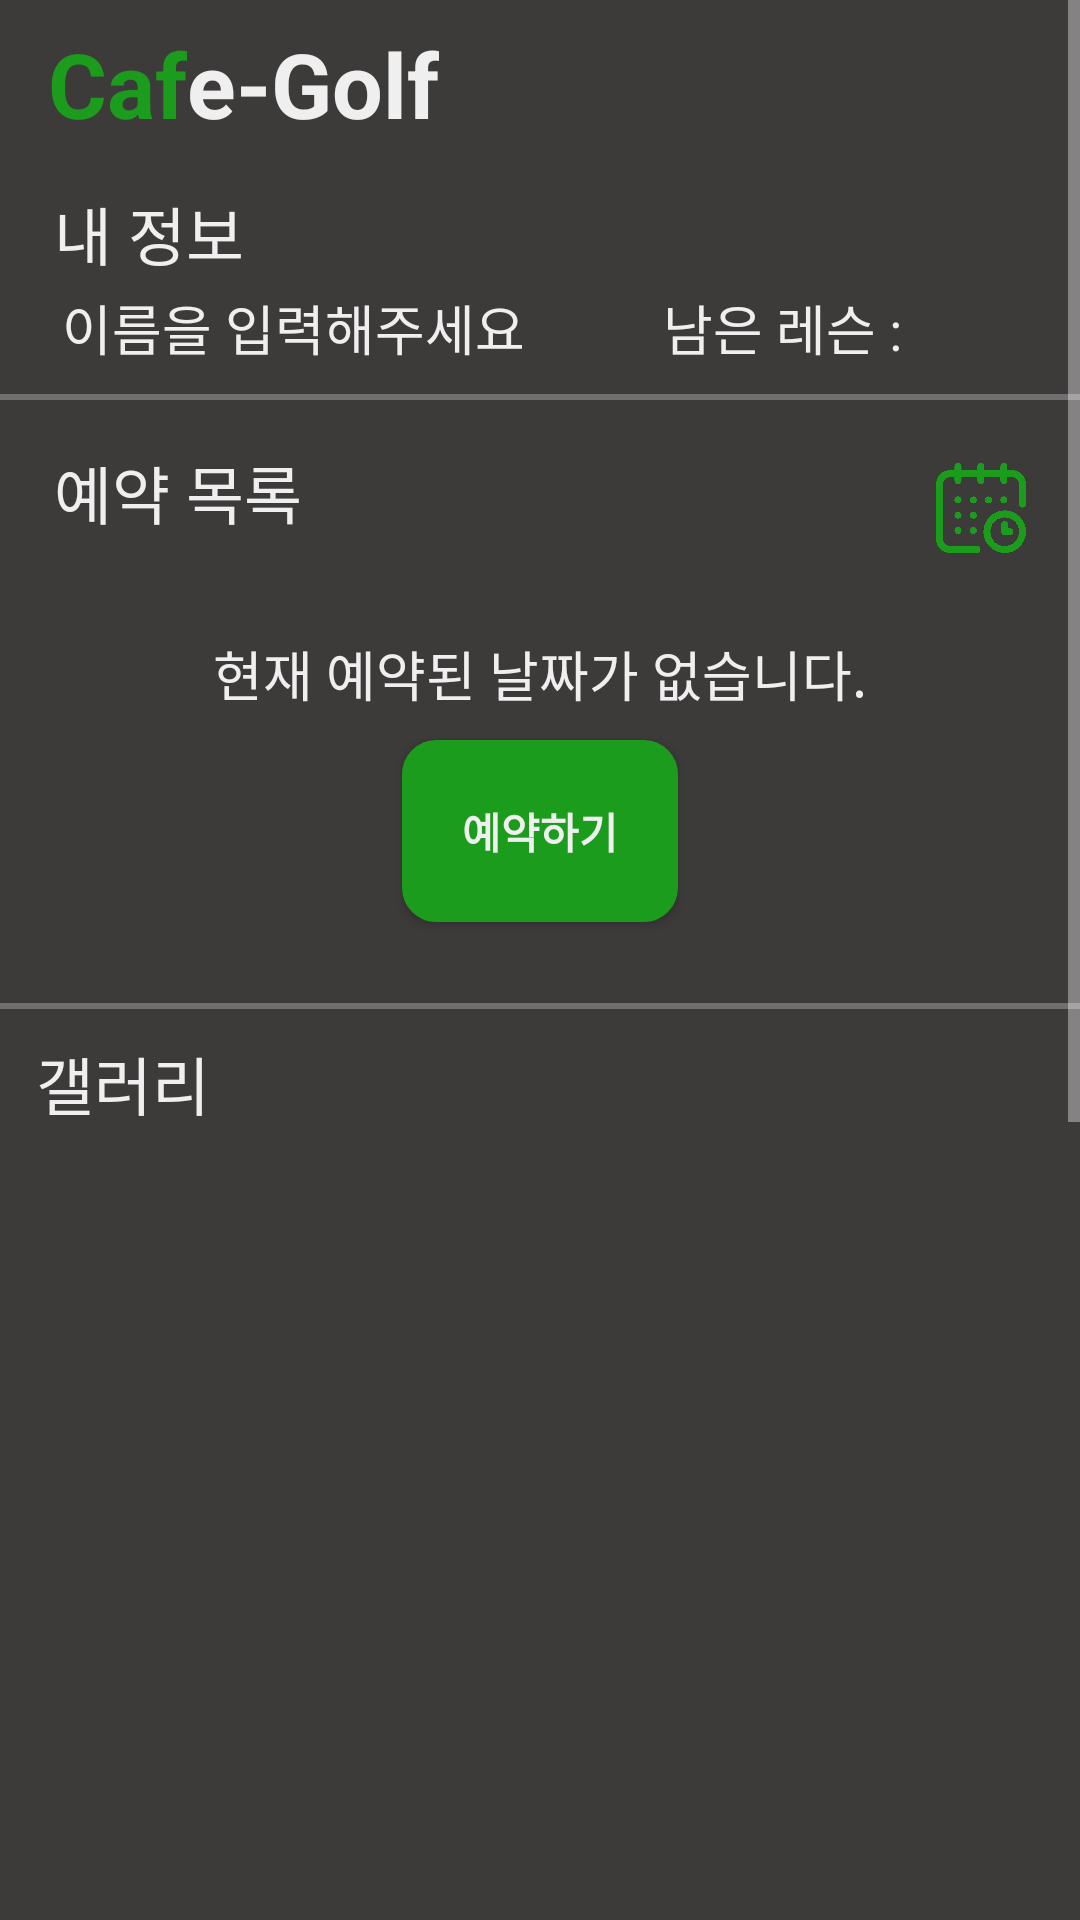

Screen size 1080w x 1920h. Icon name, then its box in pixels as (x1,y1,x2,y2):
calendar: (936,463,1026,553)
